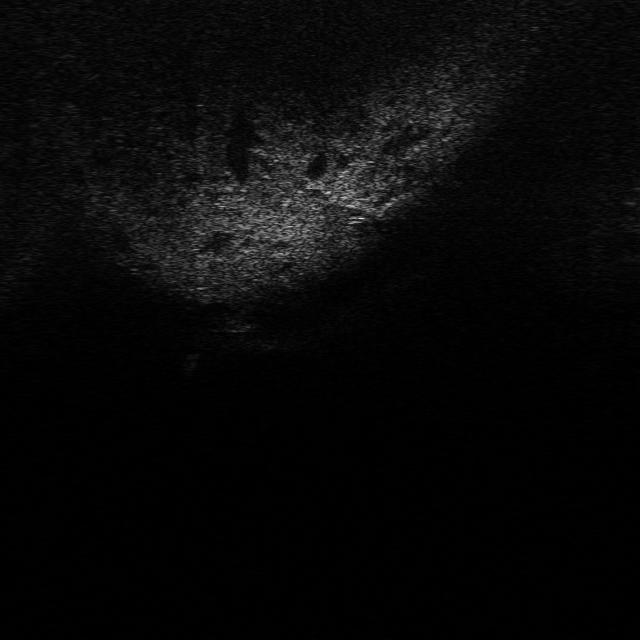cube: (213, 312, 257, 334)
cylinder: (180, 347, 200, 378)
